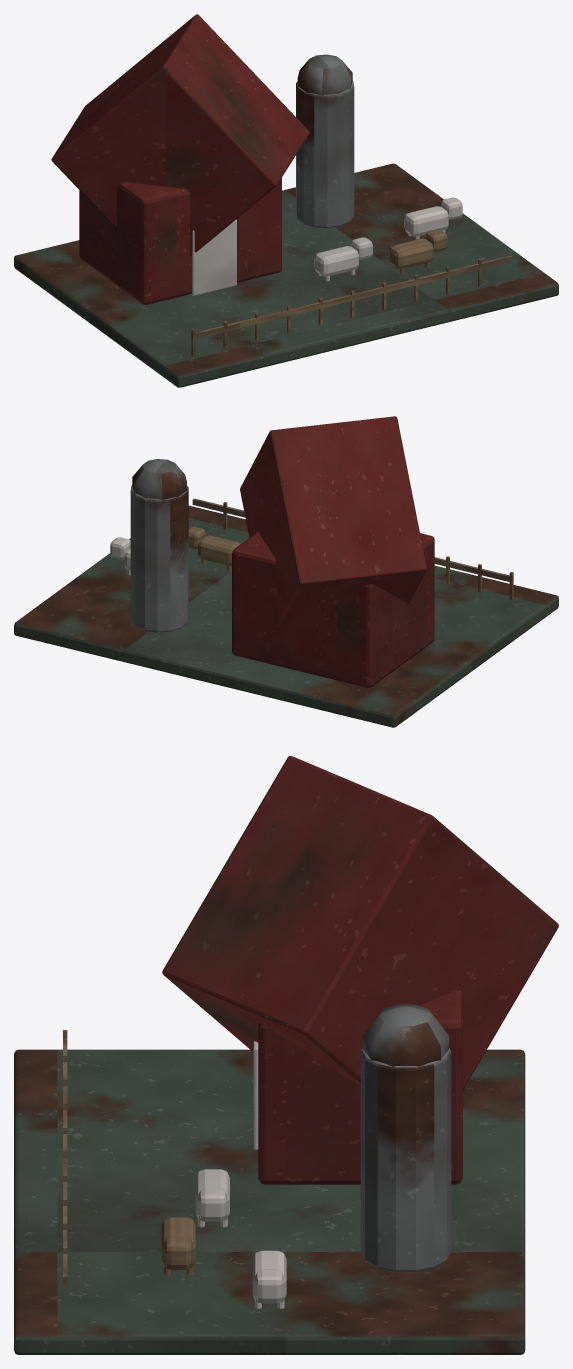
The model's file is TY09_toy_farm_set.glb.
3 views of the same model, one above another, from view 1: azimuth 30°, elevation 25°; view 2: azimuth 150°, elevation 25°; view 3: azimuth 270°, elevation 25° (orthographic). The views are drawn at different scales.
Visible parts, largest first — view 1: TY09_toy_farm_set; view 2: TY09_toy_farm_set; view 3: TY09_toy_farm_set.
Boxes of the visible parts, x1,y1,x2,y2 form: TY09_toy_farm_set: (14,14,558,387); TY09_toy_farm_set: (14,416,558,727); TY09_toy_farm_set: (14,756,558,1354).
Bounding box in the file's own units: 0.6 × 0.3588 × 0.4796.
6 materials, 6 textured.
